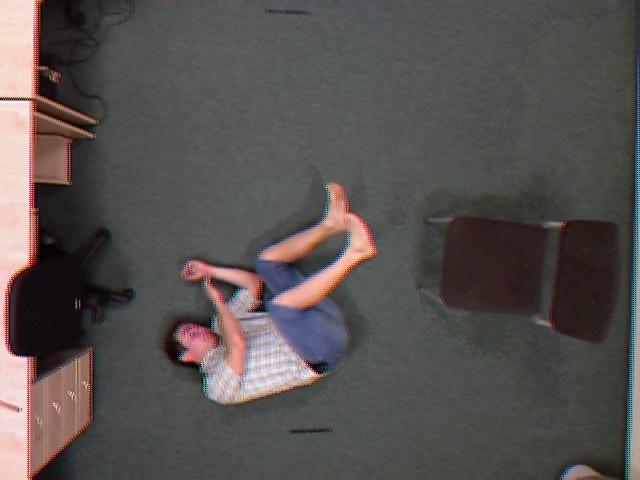fall: (159, 177, 372, 410)
